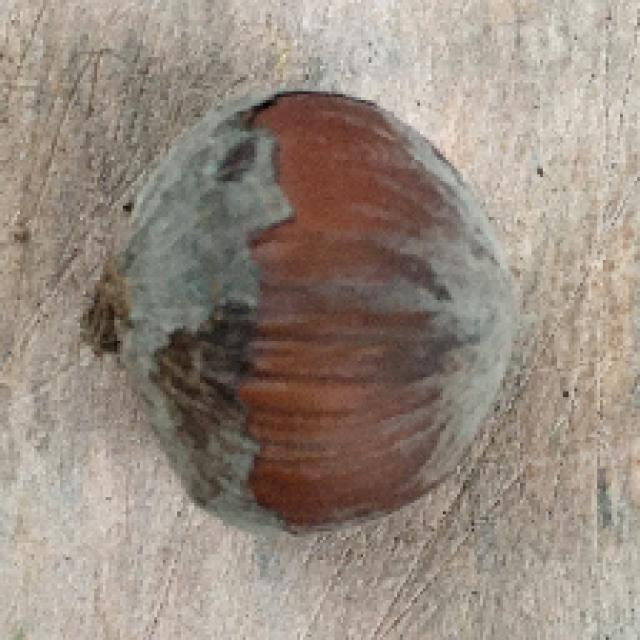damagedHazelnut: (92, 82, 532, 541)
